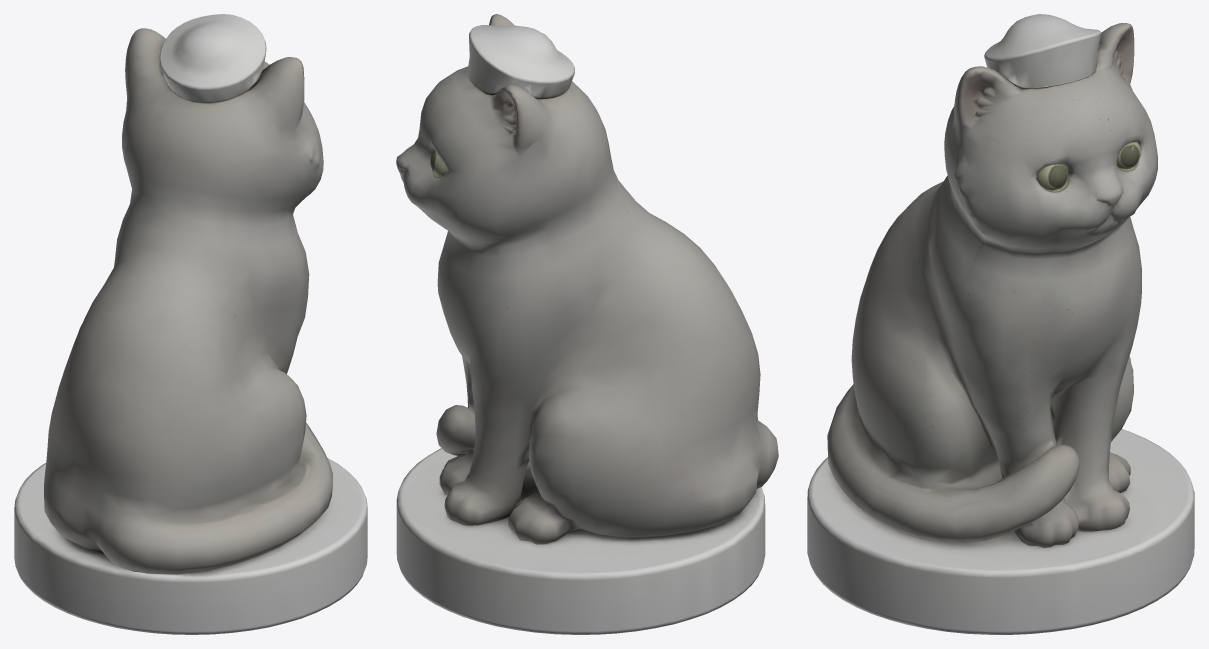
Rendered from figurine-clinic-helper.glb.
3 renders of one model, left to right at view 1: azimuth 30°, elevation 25°; view 2: azimuth 150°, elevation 25°; view 3: azimuth 270°, elevation 25°, orthographic. The views are drawn at different scales.
Parts seen in each view (by area): view 1: tripo_node_6075e456-2eb2-4355-b5dd-42cb1ba0542f; view 2: tripo_node_6075e456-2eb2-4355-b5dd-42cb1ba0542f; view 3: tripo_node_6075e456-2eb2-4355-b5dd-42cb1ba0542f.
Boxes of the visible parts, x1,y1,x2,y2 form: tripo_node_6075e456-2eb2-4355-b5dd-42cb1ba0542f: (14,14,367,634); tripo_node_6075e456-2eb2-4355-b5dd-42cb1ba0542f: (396,14,778,634); tripo_node_6075e456-2eb2-4355-b5dd-42cb1ba0542f: (807,14,1194,634).
Size of the model in its own units: 0.6288 by 0.9995 by 0.6294.
Materials: 1 (1 with a texture image).
